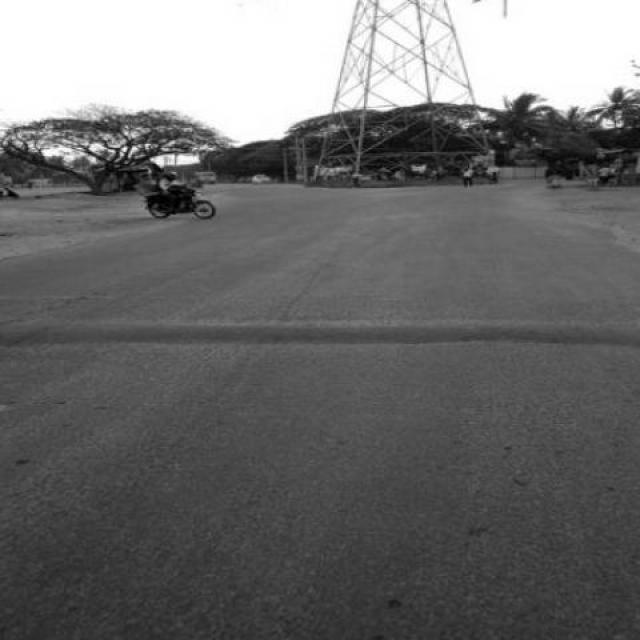Unmarked Bump: (1, 320, 639, 350)
